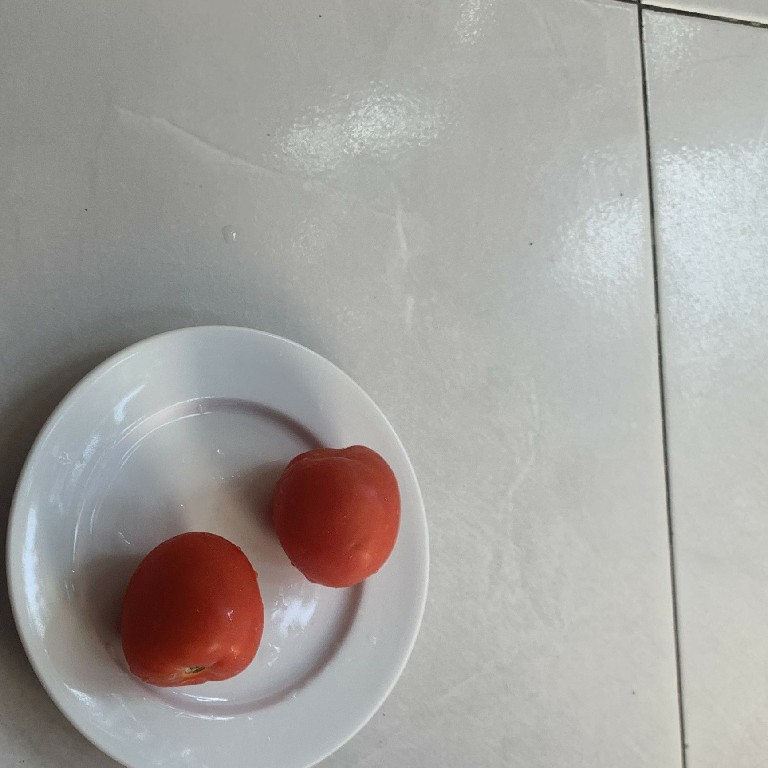OK: (119, 528, 268, 692), (277, 442, 396, 587)
